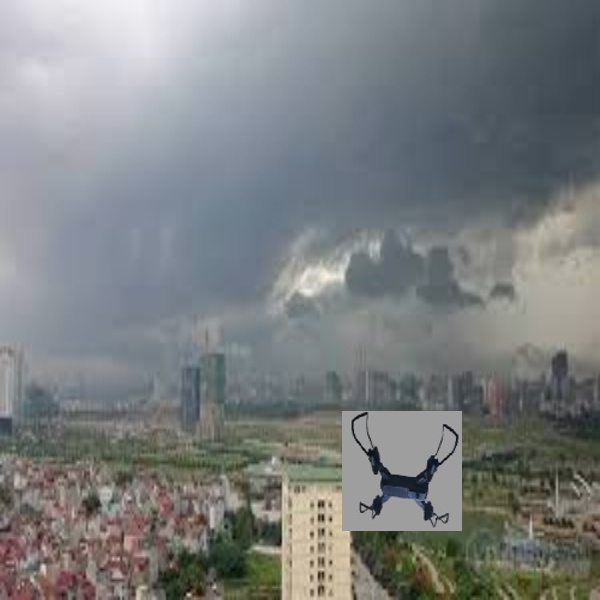drone: (345, 410, 463, 529)
